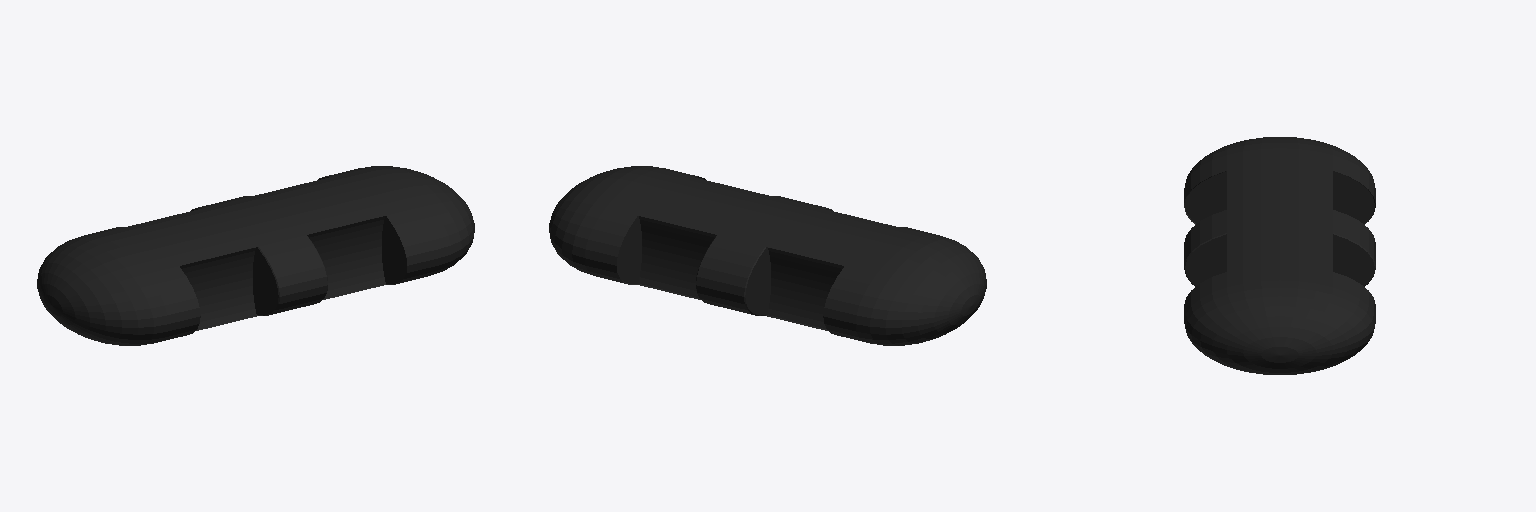
The model's file is drone_body.obj.
3 views of the same model, side by side, from view 1: azimuth 30°, elevation 25°; view 2: azimuth 150°, elevation 25°; view 3: azimuth 270°, elevation 25° (orthographic).
Visible parts, largest first — view 1: drone_body; view 2: drone_body; view 3: drone_body.
Part boxes in pixels (left/top/right/bottom): drone_body: left=37, top=166, right=474, bottom=345; drone_body: left=549, top=166, right=986, bottom=345; drone_body: left=1184, top=137, right=1375, bottom=374.
Size of the model in its own units: 4.91 by 0.9573 by 2.